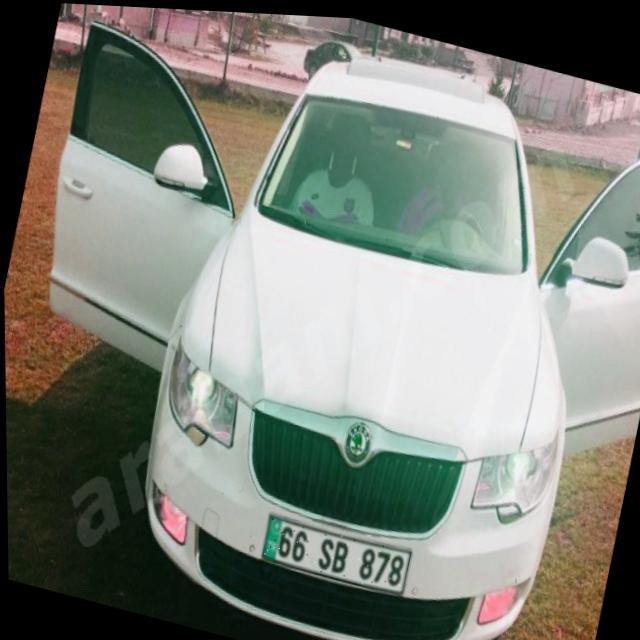license_plate: (258, 510, 409, 591)
